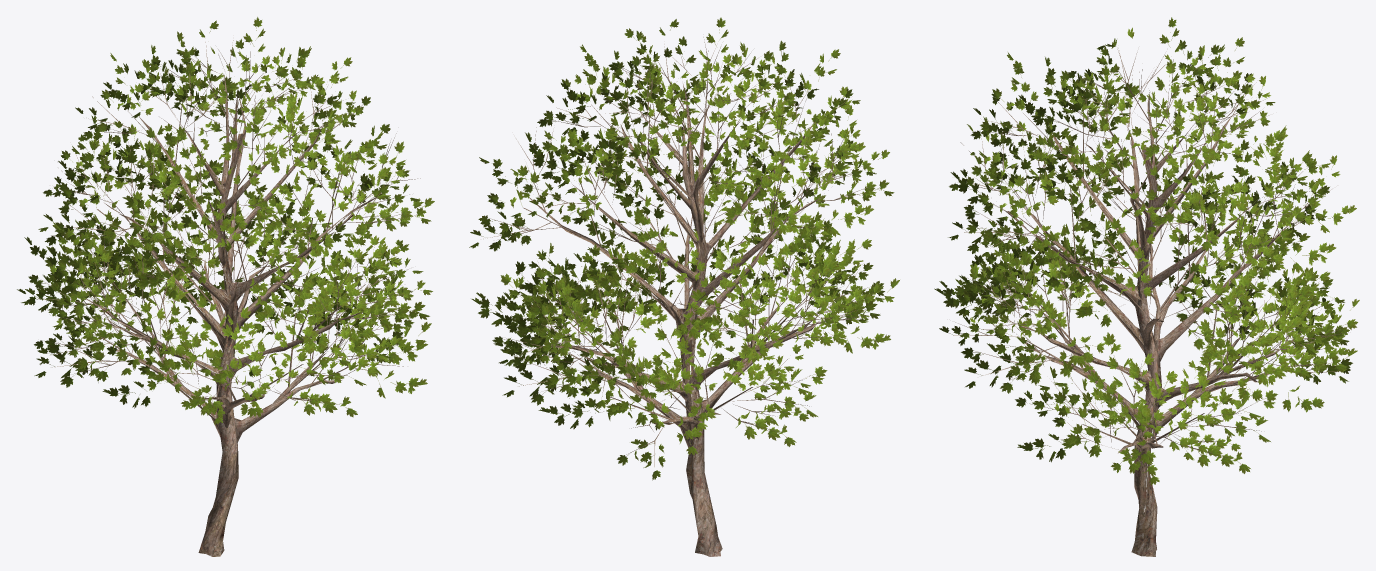
The model's file is maple.glb.
3 renders of one model, left to right at view 1: azimuth 30°, elevation 25°; view 2: azimuth 150°, elevation 25°; view 3: azimuth 270°, elevation 25°, orthographic. The views are drawn at different scales.
Visible parts, largest first — view 1: Tree_1, Tree_0; view 2: Tree_1, Tree_0; view 3: Tree_1, Tree_0.
Boxes of the visible parts, box(x1,y1,x2,y2) form: Tree_1: box(17, 17, 434, 424); Tree_0: box(39, 40, 420, 556); Tree_1: box(469, 17, 899, 480); Tree_0: box(483, 37, 877, 556); Tree_1: box(934, 17, 1359, 485); Tree_0: box(954, 48, 1348, 556).
Bounding box in the file's own units: 10.75 × 13.76 × 10.55.
Materials: 2 (2 with a texture image).
